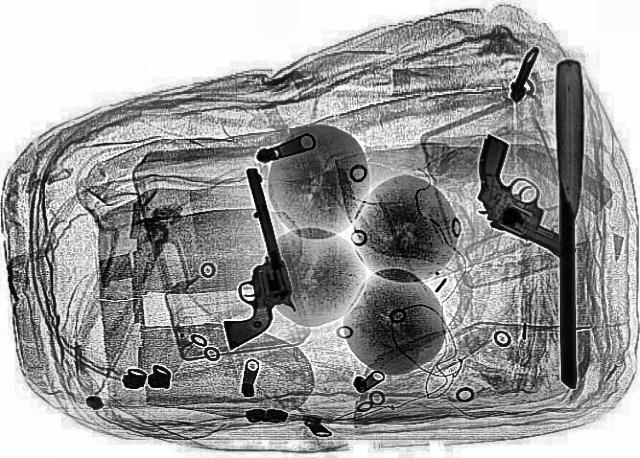Gun: (422, 132, 628, 260), (186, 167, 304, 349)
Knife: (554, 58, 584, 388)
